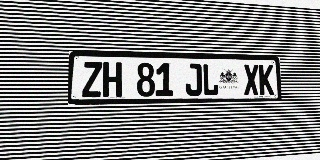1: (155, 63, 173, 96)
8: (137, 63, 155, 97)
H: (103, 62, 122, 97)
J: (185, 63, 202, 96)
K: (259, 65, 274, 95)
L: (202, 64, 219, 96)
X: (243, 64, 259, 95)
Z: (82, 62, 102, 97)
